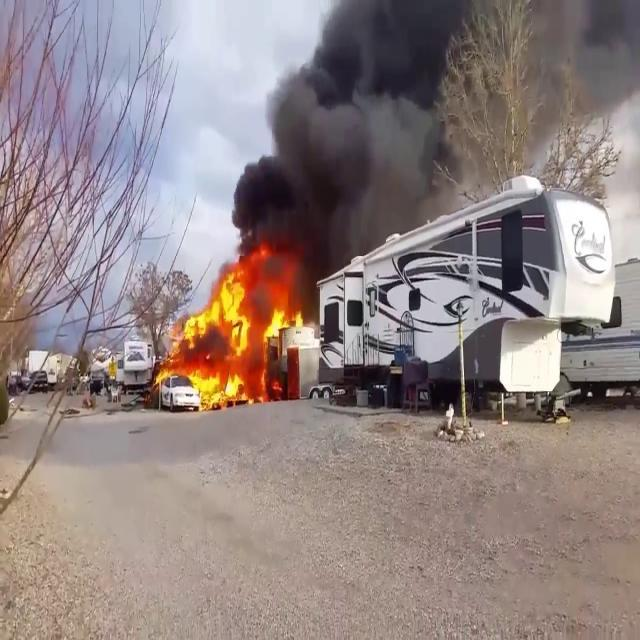Fire: (158, 258, 305, 406)
Smoke: (228, 1, 467, 270), (532, 1, 640, 240)
